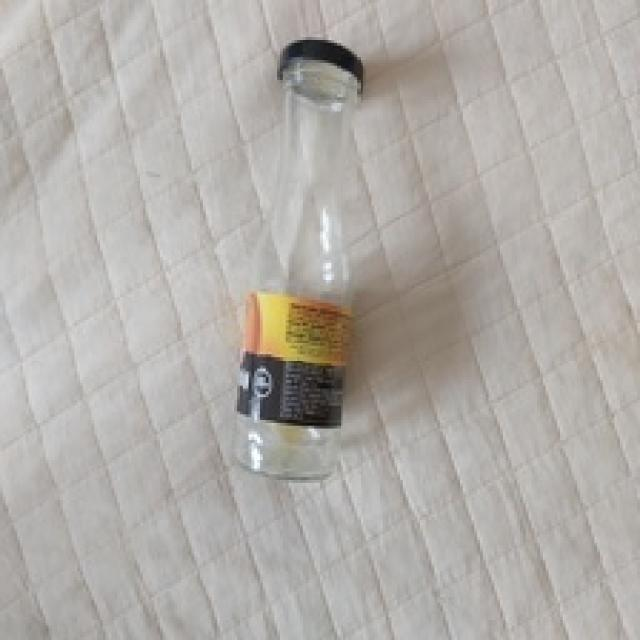Glass: (228, 57, 362, 480)
